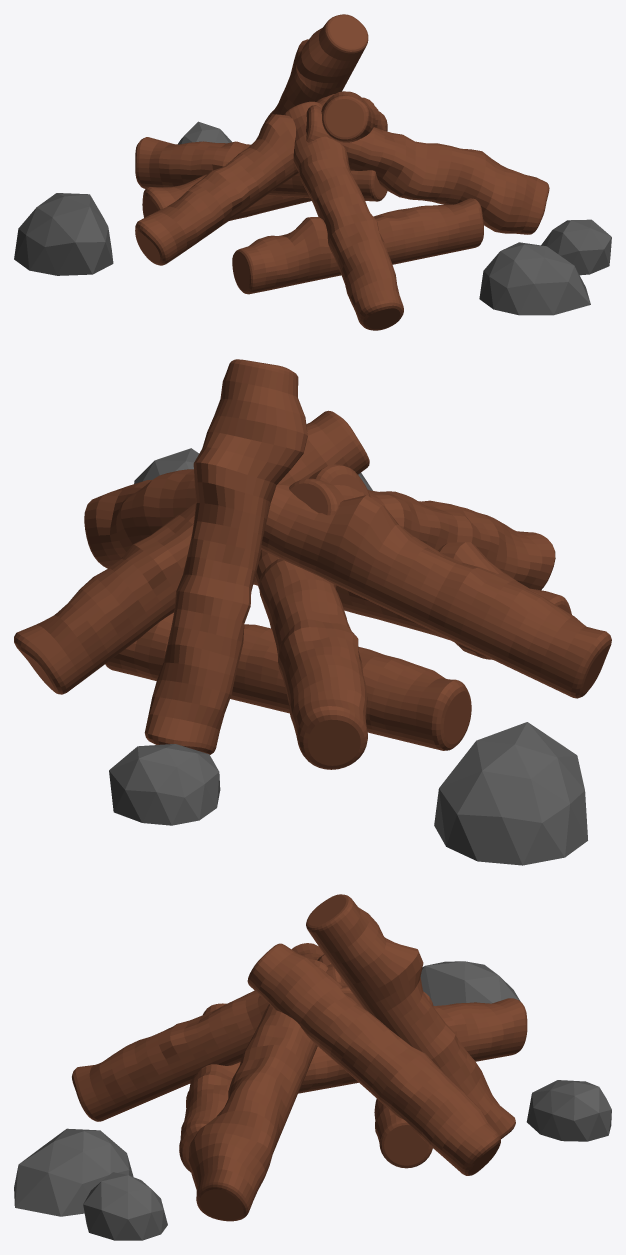
File: fireplace.glb
3 views of the same model, one above another, from view 1: azimuth 30°, elevation 25°; view 2: azimuth 150°, elevation 25°; view 3: azimuth 270°, elevation 25° (orthographic). The views are drawn at different scales.
Parts seen in each view (by area): view 1: Icosphere.002, Cylinder.004, Cylinder.003, Cylinder.002, Cylinder.001, Cylinder.006, Cylinder.007, Cylinder.005, Cylinder; view 2: Cylinder.007, Cylinder.001, Icosphere.002, Cylinder.005, Cylinder.006, Cylinder, Cylinder.003, Cylinder.004, Cylinder.002; view 3: Icosphere.002, Cylinder.005, Cylinder.004, Cylinder.007, Cylinder.003, Cylinder.006, Cylinder.002, Cylinder, Cylinder.001.
Part boxes in pixels (left/top/right/bottom): Icosphere.002: left=14, top=121, right=611, bottom=315; Cylinder.004: left=306, top=105, right=549, bottom=234; Cylinder.003: left=284, top=101, right=403, bottom=330; Cylinder.002: left=232, top=198, right=483, bottom=294; Cylinder.001: left=135, top=94, right=334, bottom=265; Cylinder.006: left=135, top=137, right=387, bottom=201; Cylinder.007: left=259, top=14, right=368, bottom=133; Cylinder.005: left=321, top=91, right=387, bottom=142; Cylinder: left=142, top=174, right=311, bottom=220; Cylinder.007: left=144, top=359, right=307, bottom=754; Cylinder.001: left=261, top=484, right=611, bottom=698; Icosphere.002: left=109, top=448, right=587, bottom=865; Cylinder.005: left=14, top=410, right=369, bottom=694; Cylinder.006: left=255, top=549, right=367, bottom=769; Cylinder: left=105, top=612, right=471, bottom=750; Cylinder.003: left=289, top=478, right=555, bottom=590; Cylinder.004: left=84, top=464, right=370, bottom=568; Cylinder.002: left=253, top=542, right=571, bottom=659; Icosphere.002: left=14, top=961, right=611, bottom=1240; Cylinder.005: left=247, top=943, right=500, bottom=1175; Cylinder.004: left=188, top=959, right=327, bottom=1221; Cylinder.007: left=306, top=894, right=515, bottom=1138; Cylinder.003: left=72, top=964, right=344, bottom=1121; Cylinder.006: left=298, top=998, right=527, bottom=1093; Cylinder.002: left=179, top=1003, right=240, bottom=1172; Cylinder: left=374, top=992, right=433, bottom=1168; Cylinder.001: left=291, top=943, right=363, bottom=1008.
Size of the model in its own units: 21.84 by 10.53 by 22.12.
